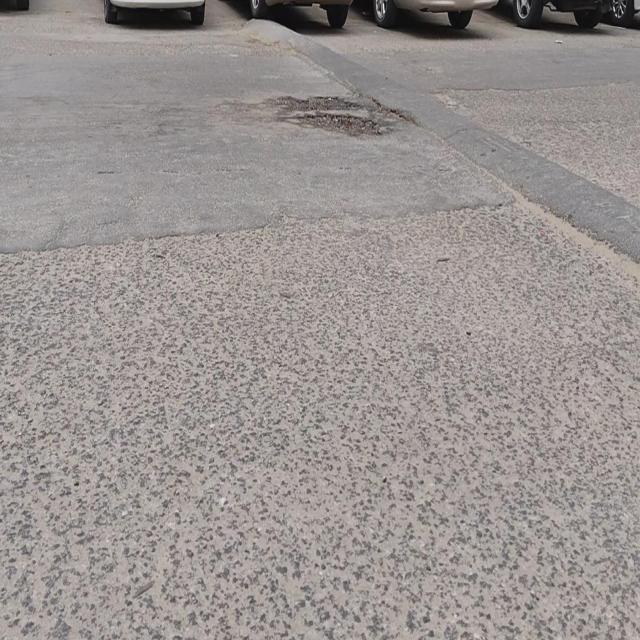Potholes: (276, 93, 391, 136)
